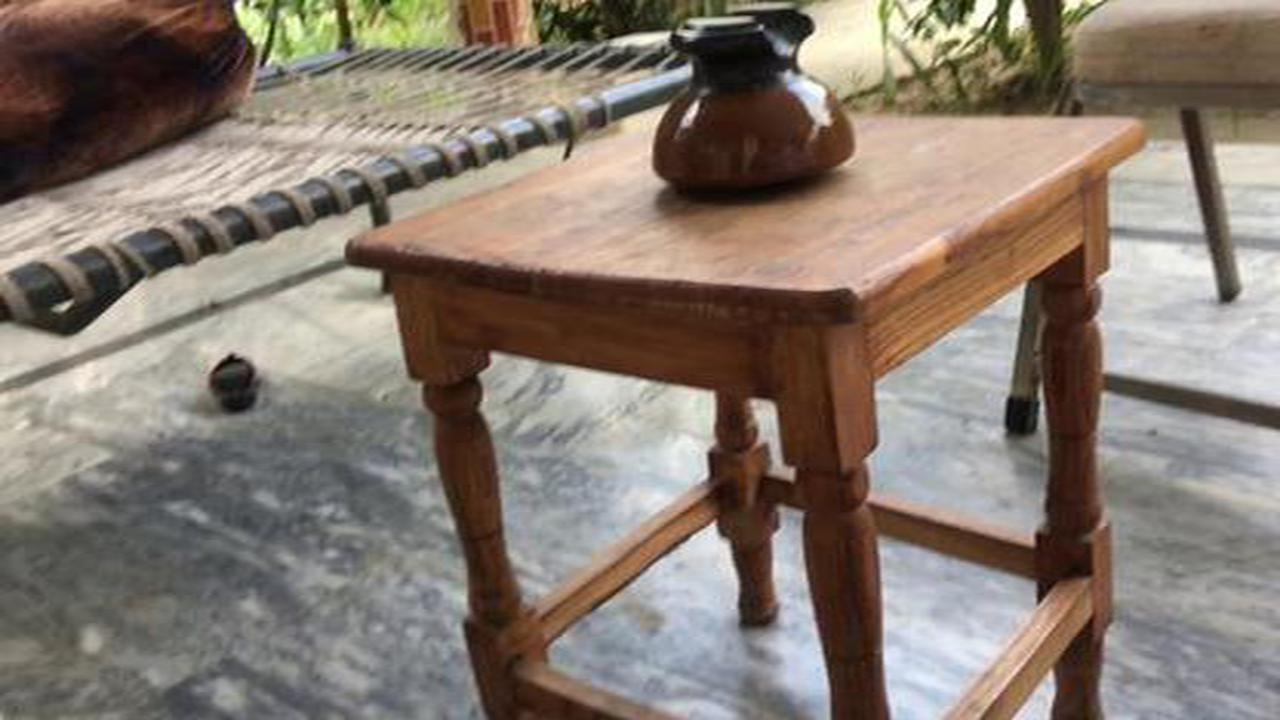insulator_pin: (634, 7, 881, 198)
